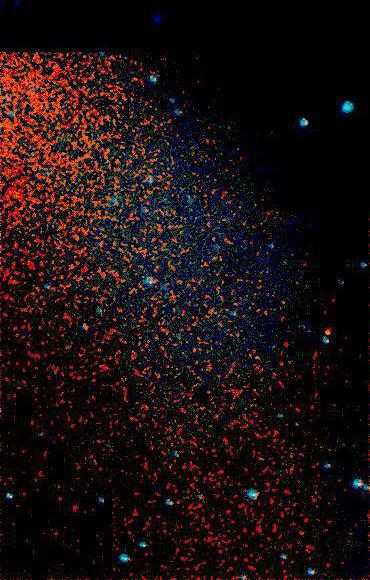star: (311, 316, 341, 346)
